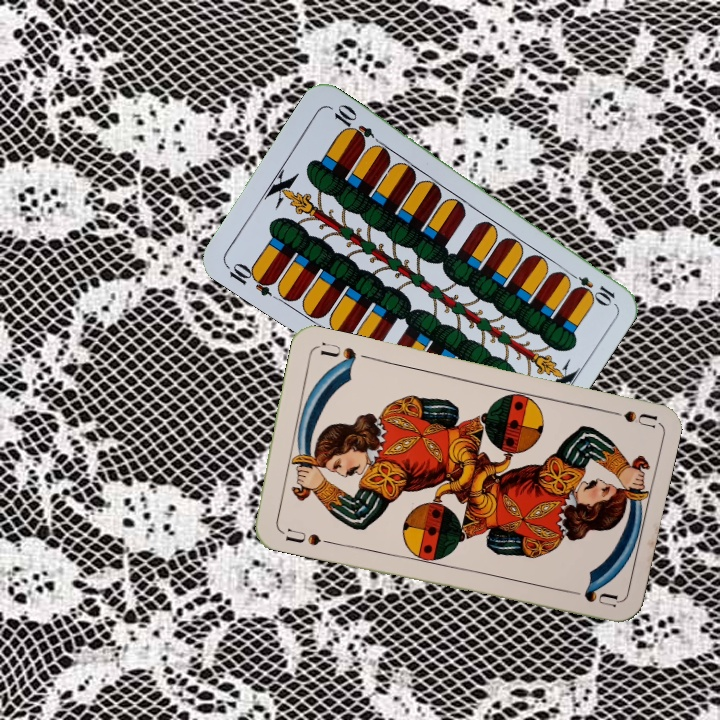E10: (221, 258, 278, 299), (562, 267, 618, 307)
SU: (598, 404, 658, 430), (281, 524, 324, 548)
